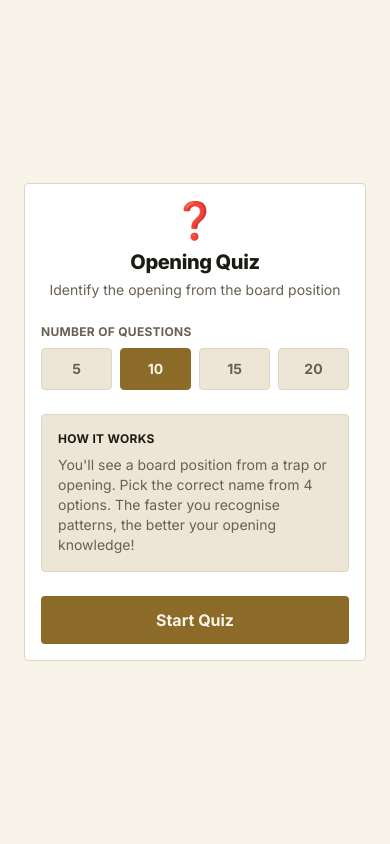
it: OpeningQuizPage › cannot pick a second answer once one has been revealed
What coordinates should you click on to do the following:
click the button "Start Quiz"
I would click on:
 (195, 620)
Its box is [41,596,349,644].
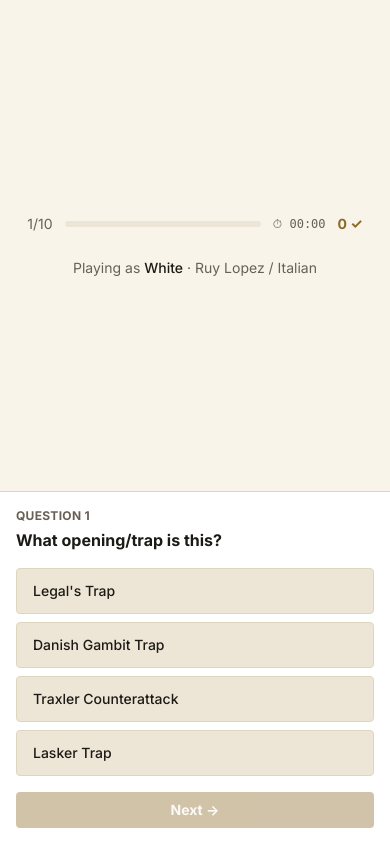
What coordinates should you click on to do the following:
click the button "Legal's Trap"
I would click on:
 (74, 590)
Its box is [16,568,374,614].
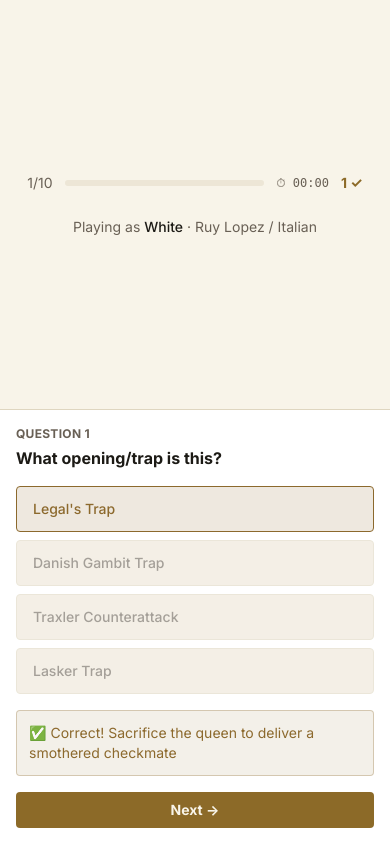
Expected: the button "Legal's Trap" is disabled, [16,486,374,532]
Expected: the button "Danish Gambit Trap" is disabled, [16,540,374,586]
Expected: the button "Traxler Counterattack" is disabled, [16,594,374,640]
